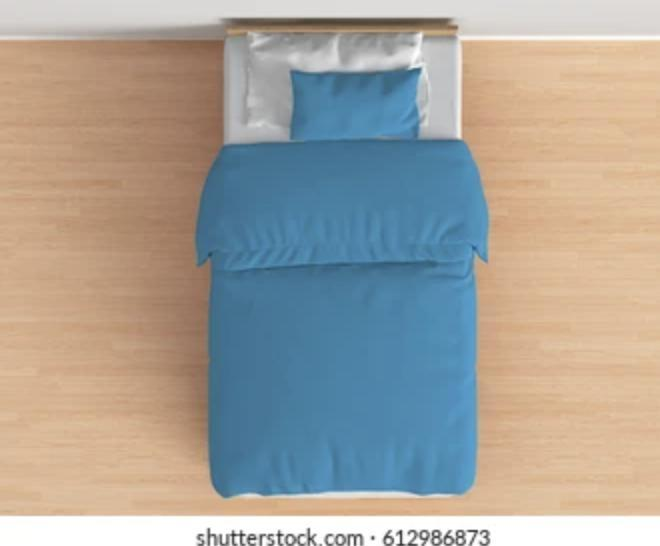Bed-Mattress: (208, 13, 485, 505)
